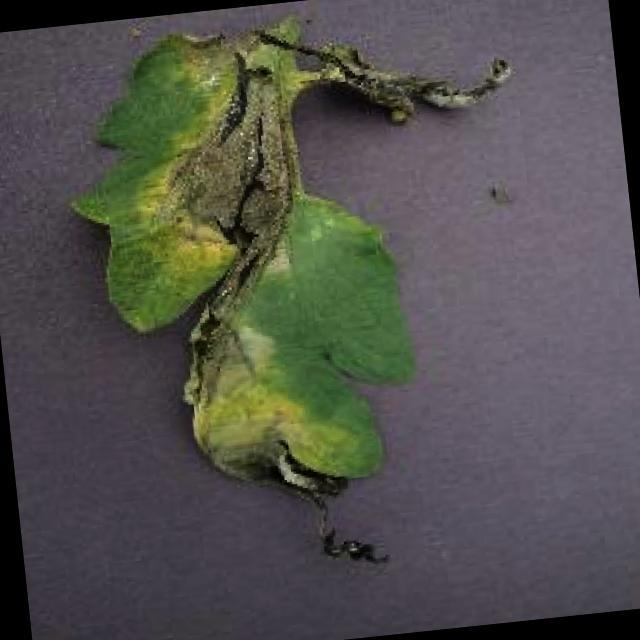Tomato late blight leaf: (51, 0, 564, 588)
